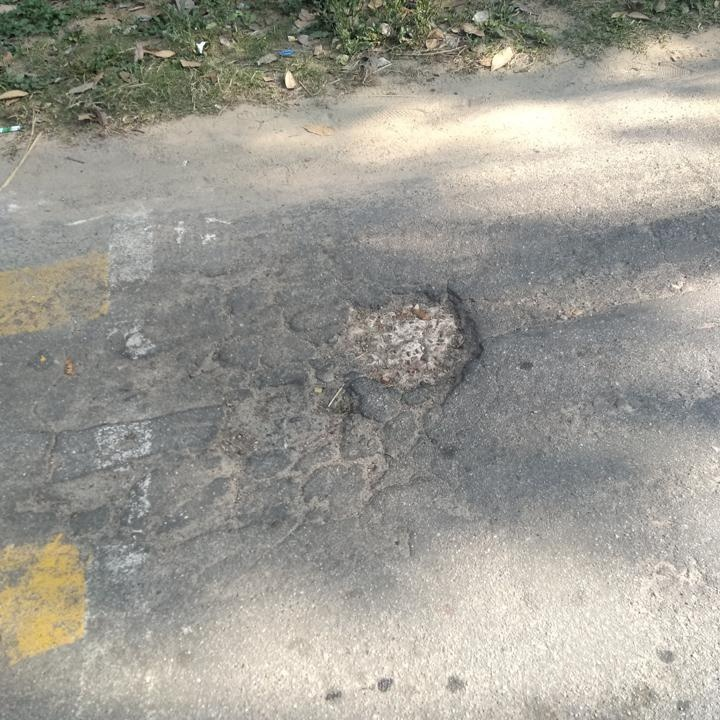pothole: (325, 281, 491, 395), (206, 376, 364, 463)
